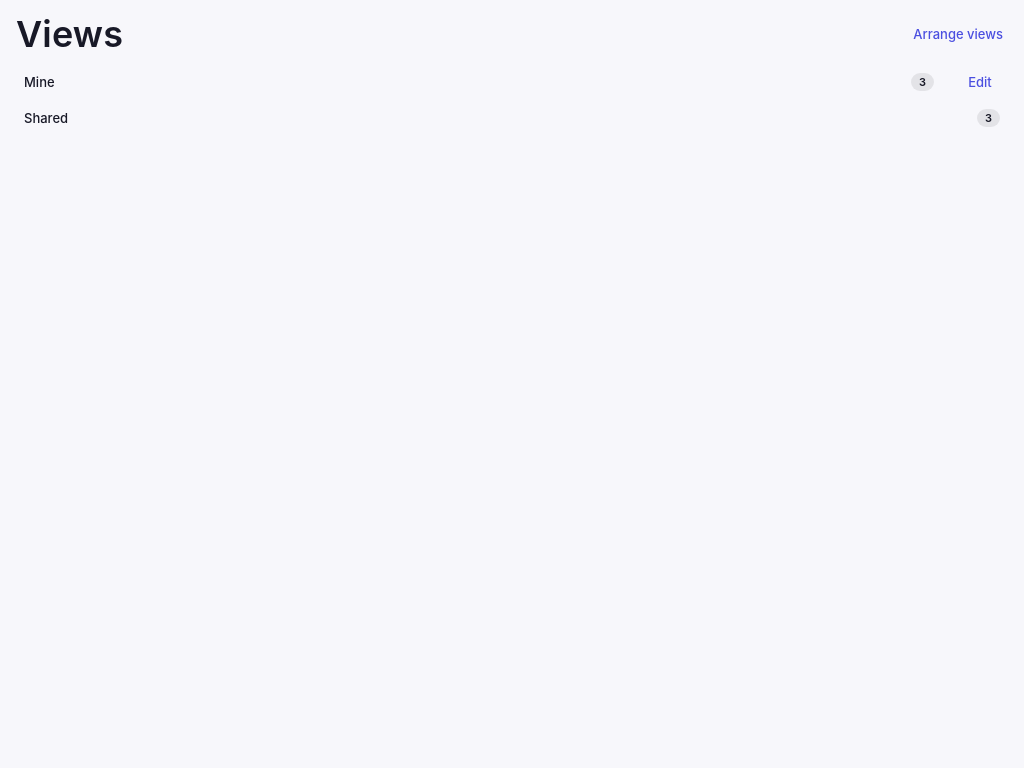
Test: ViewRail view builder wiring › offers Edit only on editable views, described by the view name, and opens it with the view
Click the button with aria-label "Edit view": (980, 82) [948,67,1012,97]
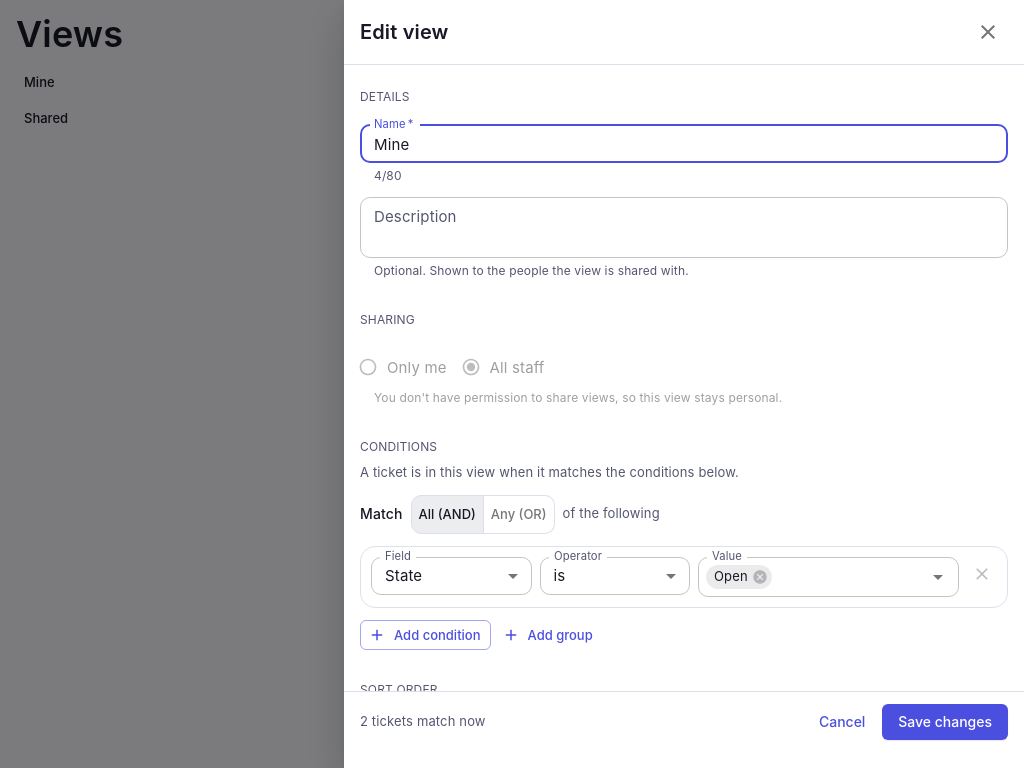
Result: the dialog "Edit view" is shown
Result: the field labelled "Name *" holds "Mine" at [360,125,1008,164]
